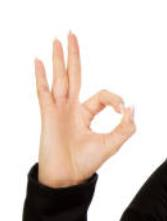left: (31, 29, 138, 183)
